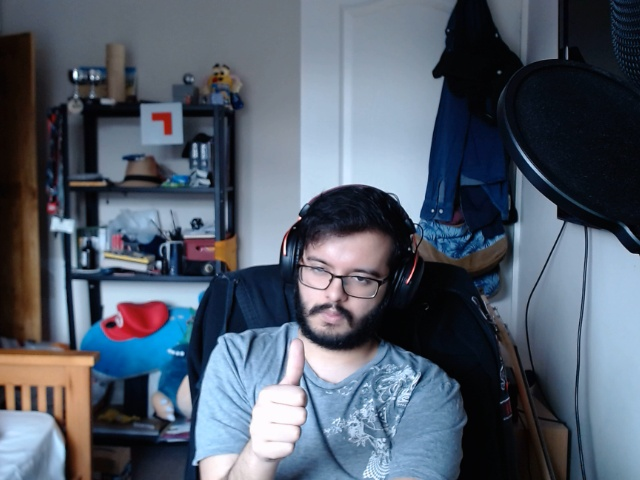Thumbs up: (238, 333, 311, 462)
